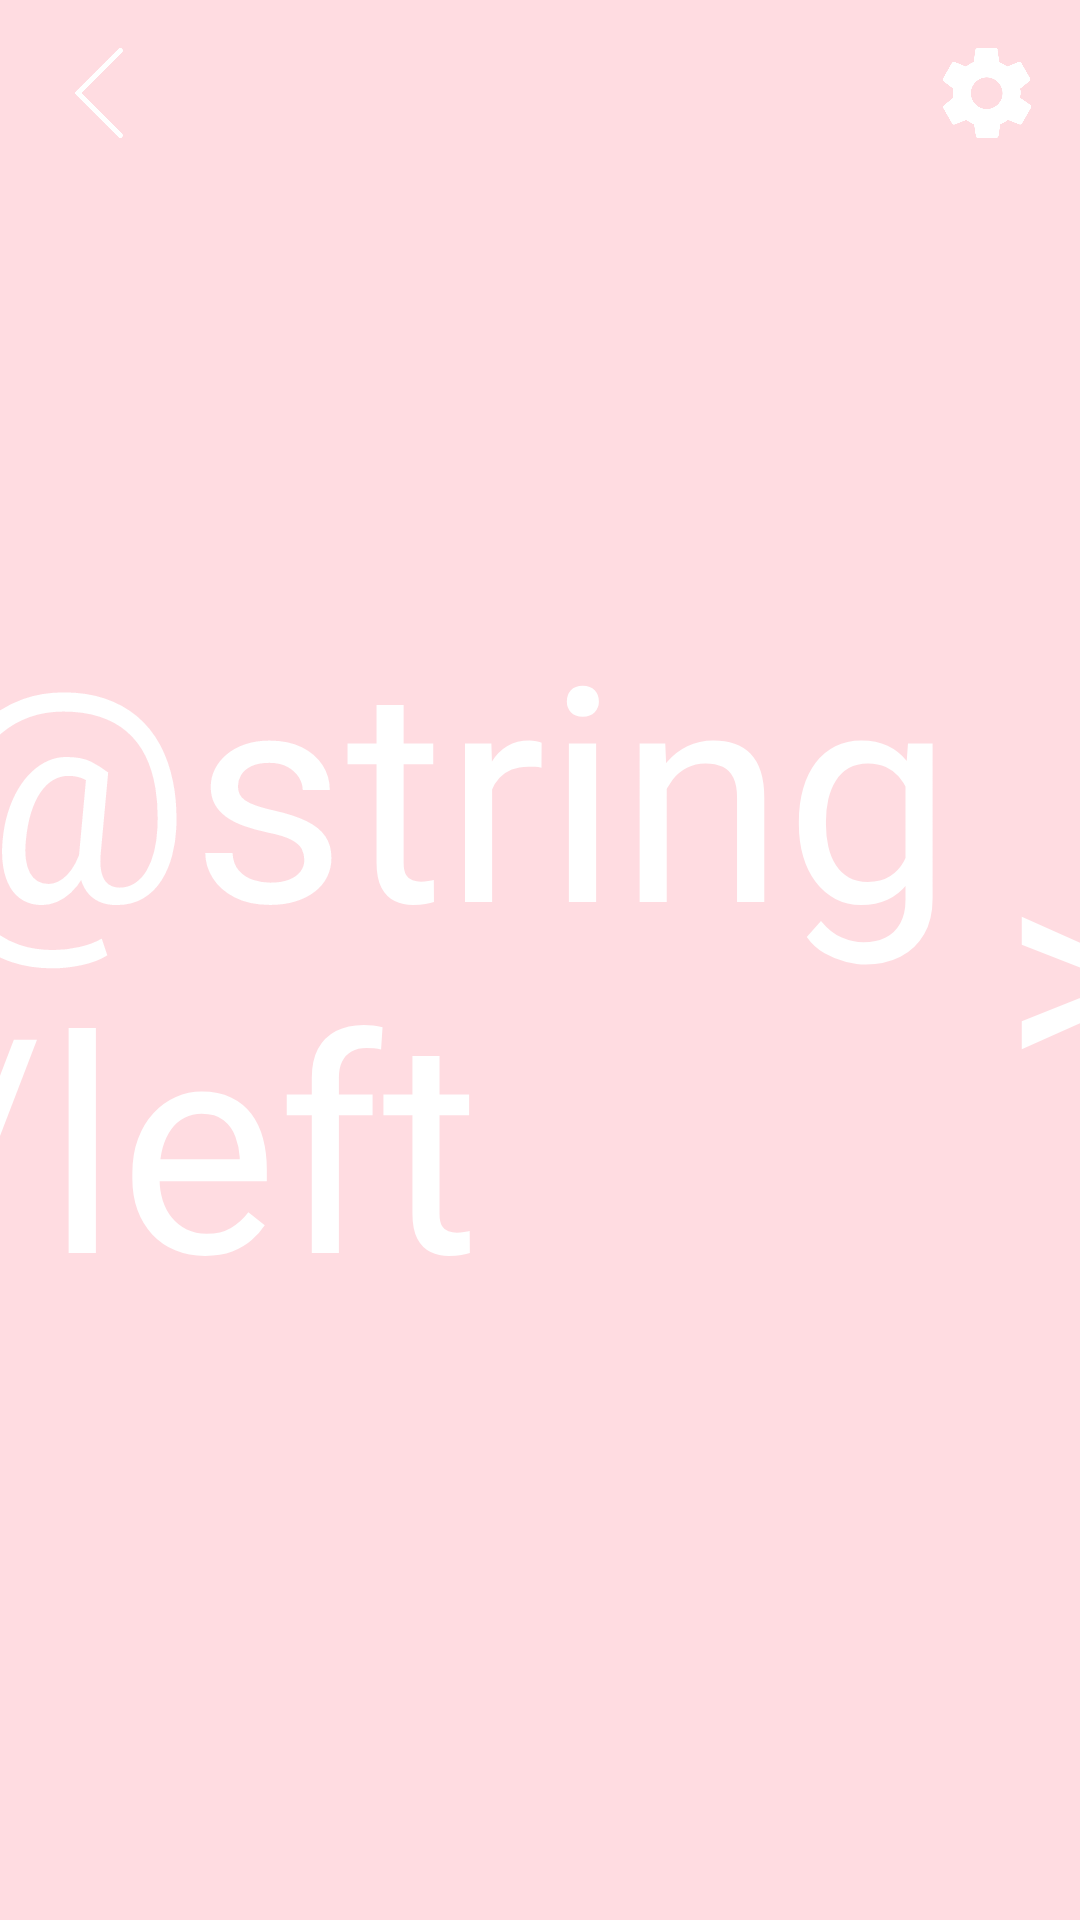

Screen size 1080*1920. Icon name, then its box in pixels as box(x1, y1, x2, y2):
back: box(75, 48, 123, 138)
preference: box(943, 48, 1031, 138)
